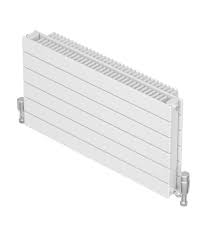Radiator: (17, 25, 193, 203)
